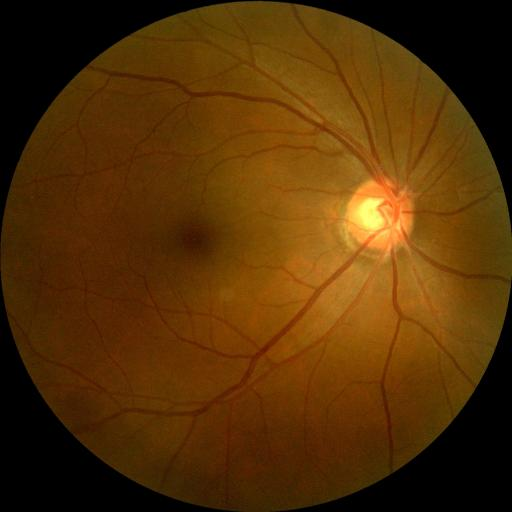Optic Cup: (357, 198, 396, 230)
Optic Disc: (347, 177, 415, 251)
